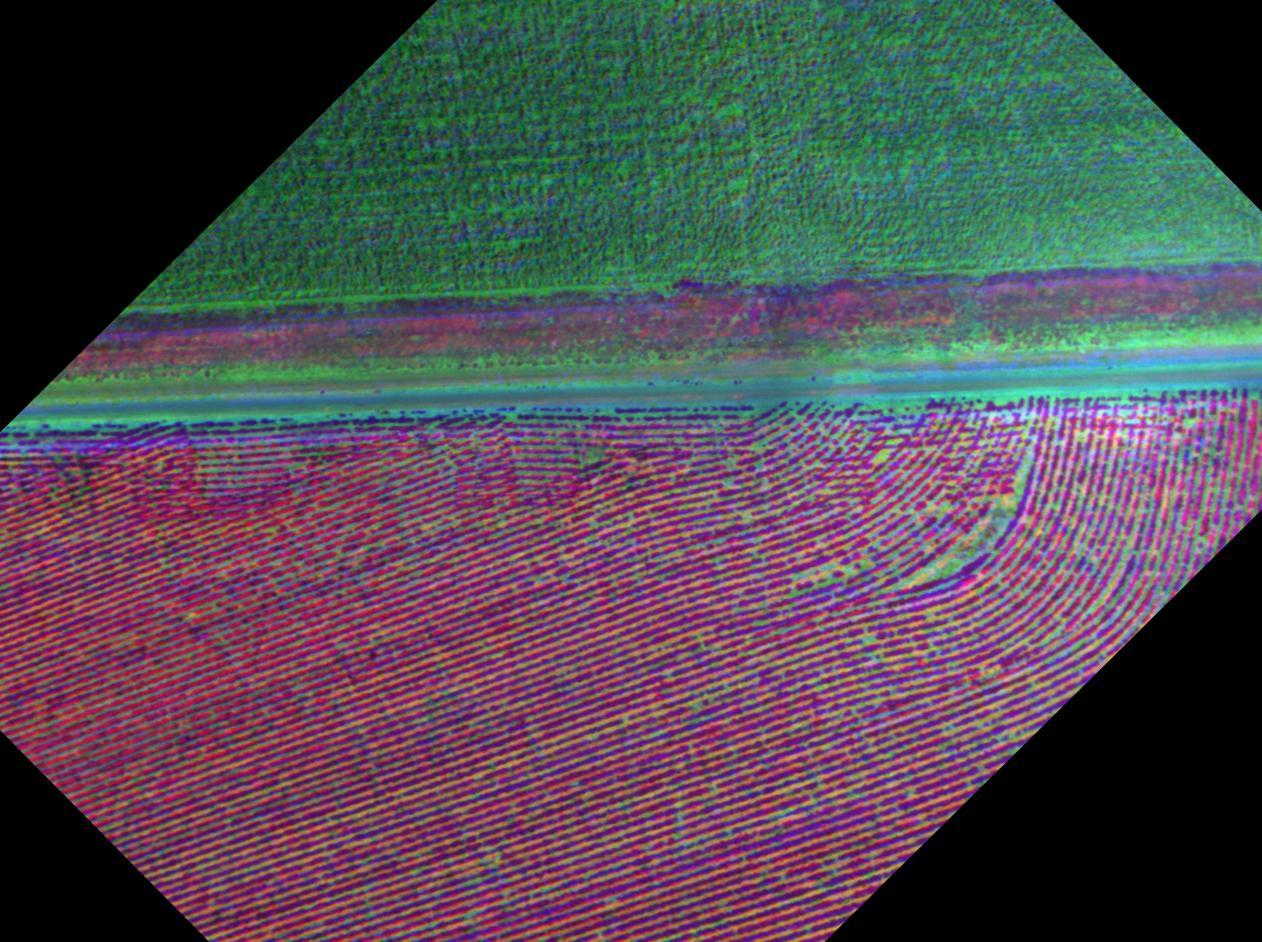dc: (891, 463, 1031, 575), (848, 610, 977, 703), (1133, 455, 1234, 542), (773, 525, 879, 592), (551, 448, 647, 508)
